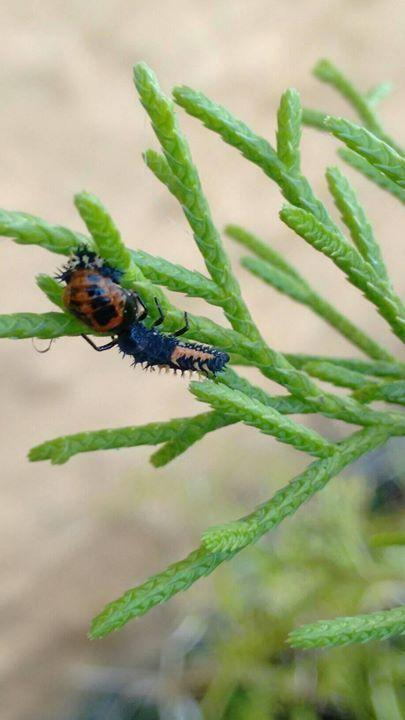ladybug: (81, 295, 233, 382), (53, 243, 135, 336)
